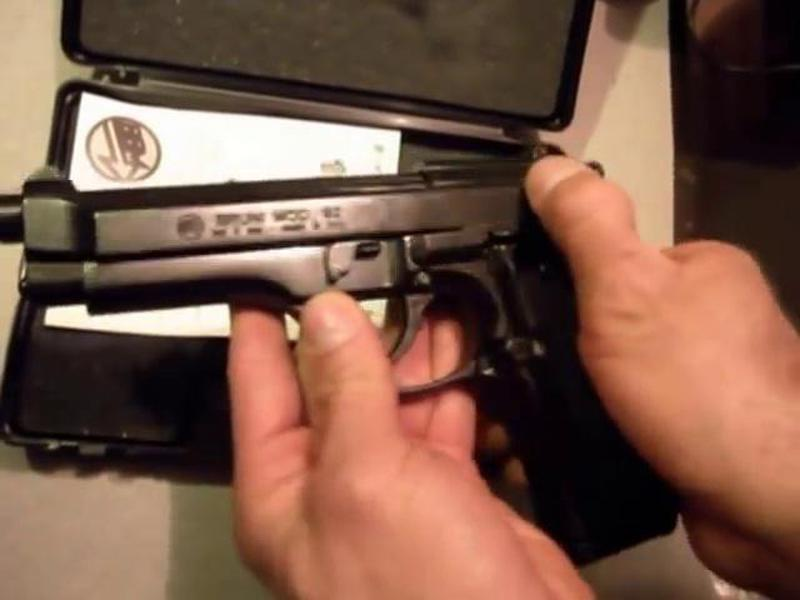Pistola: (20, 150, 681, 574)
